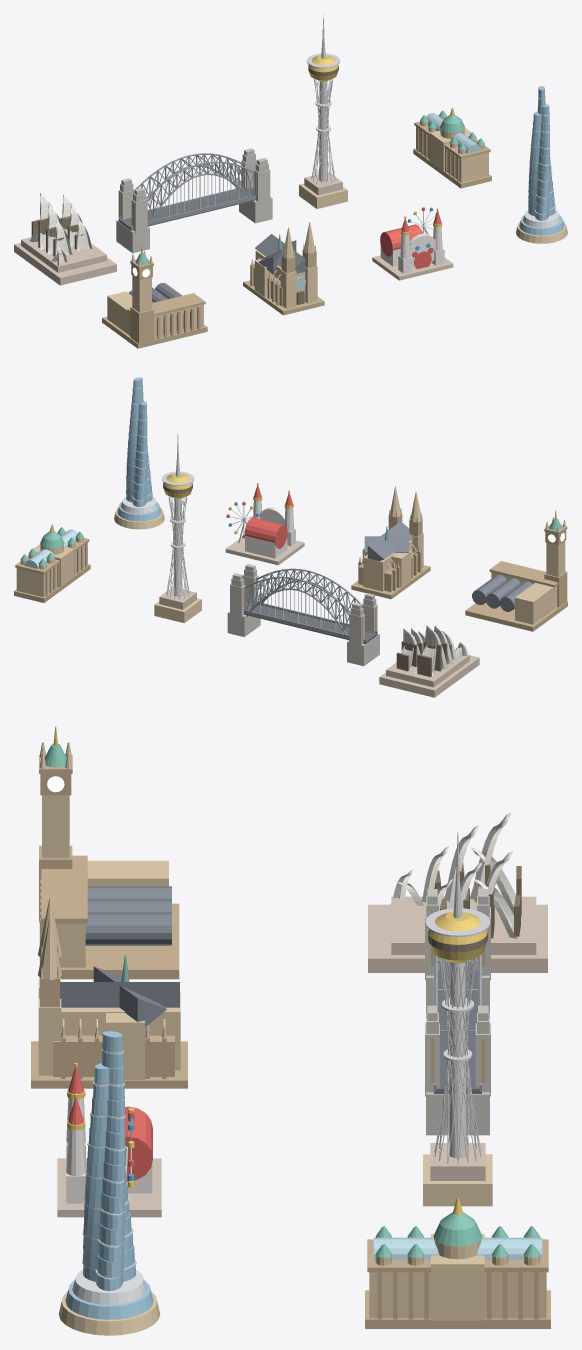
File: sydney_monuments.glb
3 renders of one model, top to bottom at view 1: azimuth 30°, elevation 25°; view 2: azimuth 150°, elevation 25°; view 3: azimuth 270°, elevation 25°, orthographic. The views are drawn at different scales.
Parts seen in each view (by area): view 1: Monument_harbour_bridge, Monument_barangaroo_crown, Monument_sydney_tower, Monument_sydney_opera_house_podium_base, Monument_sydney_opera_house_podium_upper, Monument_harbour_bridge_road_deck, Monument_luna_park, Monument_qvb_main_body, Monument_central_station_sydney, Monument_central_station_sydney_west_wing, Monument_sydney_tower_core_shaft, Monument_central_station_sydney_tower_base (+20 smaller); view 2: Monument_harbour_bridge, Monument_barangaroo_crown, Monument_sydney_tower, Monument_central_station_sydney_west_wing, Monument_central_station_sydney, Monument_harbour_bridge_road_deck, Monument_sydney_opera_house_podium_base, Monument_central_station_sydney_plinth, Monument_qvb_main_body, Monument_sydney_opera_house_podium_upper, Monument_luna_park, Monument_luna_park_funhouse_roof (+19 smaller); view 3: Monument_barangaroo_crown, Monument_sydney_tower, Monument_central_station_sydney, Monument_qvb_main_body, Monument_sydney_opera_house_podium_base, Monument_sydney_opera_house_podium_upper, Monument_central_station_sydney_plinth, Monument_qvb_central_transept, Monument_harbour_bridge, Monument_sydney_tower_core_shaft, Monument_luna_park, Monument_central_station_sydney_cornice_n (+26 smaller).
Boxes of the visible parts, x1,y1,x2,y2 form: Monument_harbour_bridge: [116, 153, 272, 253]; Monument_barangaroo_crown: [528, 86, 555, 220]; Monument_sydney_tower: [299, 79, 347, 208]; Monument_sydney_opera_house_podium_base: [14, 243, 116, 285]; Monument_sydney_opera_house_podium_upper: [21, 237, 106, 272]; Monument_harbour_bridge_road_deck: [118, 188, 255, 230]; Monument_luna_park: [398, 207, 444, 273]; Monument_qvb_main_body: [416, 126, 488, 182]; Monument_central_station_sydney: [128, 283, 200, 335]; Monument_central_station_sydney_west_wing: [107, 291, 132, 335]; Monument_sydney_tower_core_shaft: [319, 81, 327, 181]; Monument_central_station_sydney_tower_base: [130, 307, 153, 345]; Monument_harbour_bridge: [227, 568, 379, 666]; Monument_barangaroo_crown: [126, 377, 152, 507]; Monument_sydney_tower: [154, 496, 201, 623]; Monument_central_station_sydney_west_wing: [515, 583, 557, 624]; Monument_central_station_sydney: [472, 574, 532, 611]; Monument_harbour_bridge_road_deck: [244, 602, 377, 644]; Monument_sydney_opera_house_podium_base: [379, 655, 479, 697]; Monument_central_station_sydney_plinth: [465, 601, 567, 631]; Monument_qvb_main_body: [16, 543, 87, 597]; Monument_sydney_opera_house_podium_upper: [386, 654, 469, 687]; Monument_luna_park: [226, 483, 295, 546]; Monument_luna_park_funhouse_roof: [244, 517, 287, 548]; Monument_barangaroo_crown: [82, 1031, 136, 1291]; Monument_sydney_tower: [423, 957, 492, 1206]; Monument_central_station_sydney: [40, 886, 171, 945]; Monument_qvb_main_body: [369, 1272, 546, 1318]; Monument_sydney_opera_house_podium_base: [368, 904, 547, 972]; Monument_sydney_opera_house_podium_upper: [391, 896, 536, 954]; Monument_central_station_sydney_plinth: [39, 903, 179, 979]; Monument_qvb_central_transept: [431, 1234, 484, 1320]; Monument_harbour_bridge: [426, 954, 489, 1135]; Monument_sydney_tower_core_shaft: [449, 962, 466, 1158]; Monument_luna_park: [66, 1063, 134, 1203]; Monument_central_station_sydney_cornice_n: [41, 855, 87, 923].
Size of the model in its own units: 34.45 by 13.68 by 17.9.
